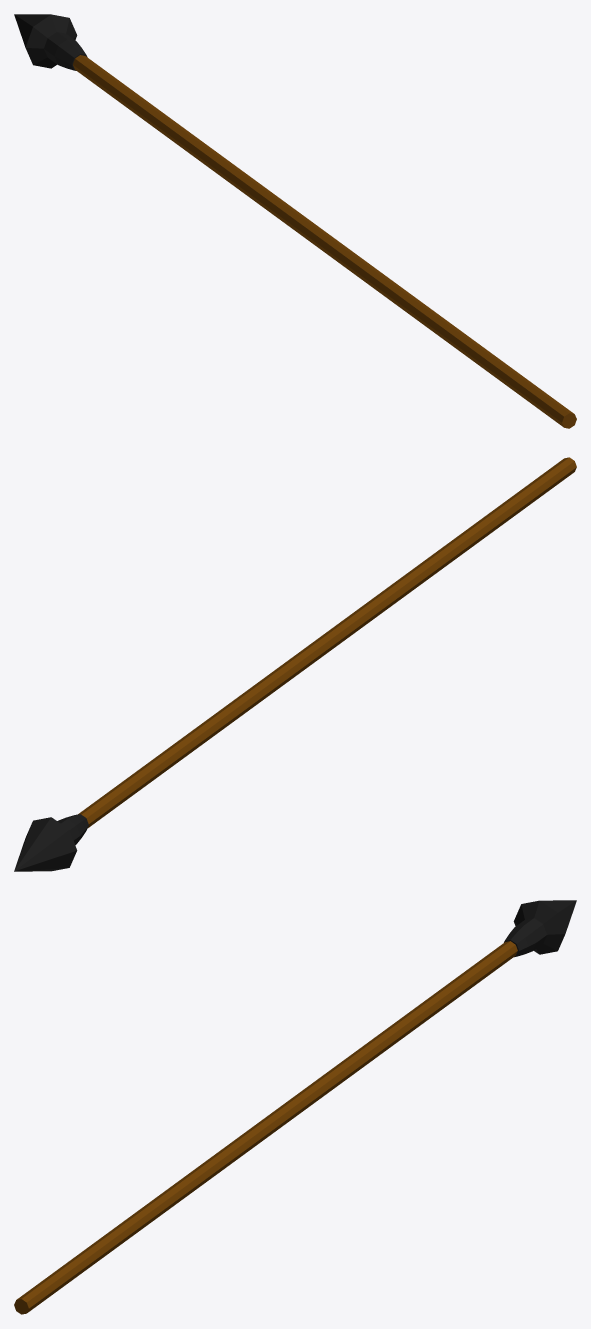
File: StaticBolt.glb
The picture shows the model from 3 angles, top to bottom: view 1: azimuth 30°, elevation 25°; view 2: azimuth 150°, elevation 25°; view 3: azimuth 330°, elevation 25°; orthographic projection.
Visible parts, largest first — view 1: Bolt, Cone; view 2: Bolt, Cone; view 3: Bolt, Cone.
Boxes of the visible parts, bbox=[...] form: Bolt: bbox=[73, 55, 576, 428]; Cone: bbox=[14, 14, 87, 70]; Bolt: bbox=[78, 457, 576, 827]; Cone: bbox=[14, 814, 88, 871]; Bolt: bbox=[14, 941, 517, 1314]; Cone: bbox=[504, 900, 576, 957].
Bounding box in the file's own units: 0.1247 × 0.1247 × 2.32.
